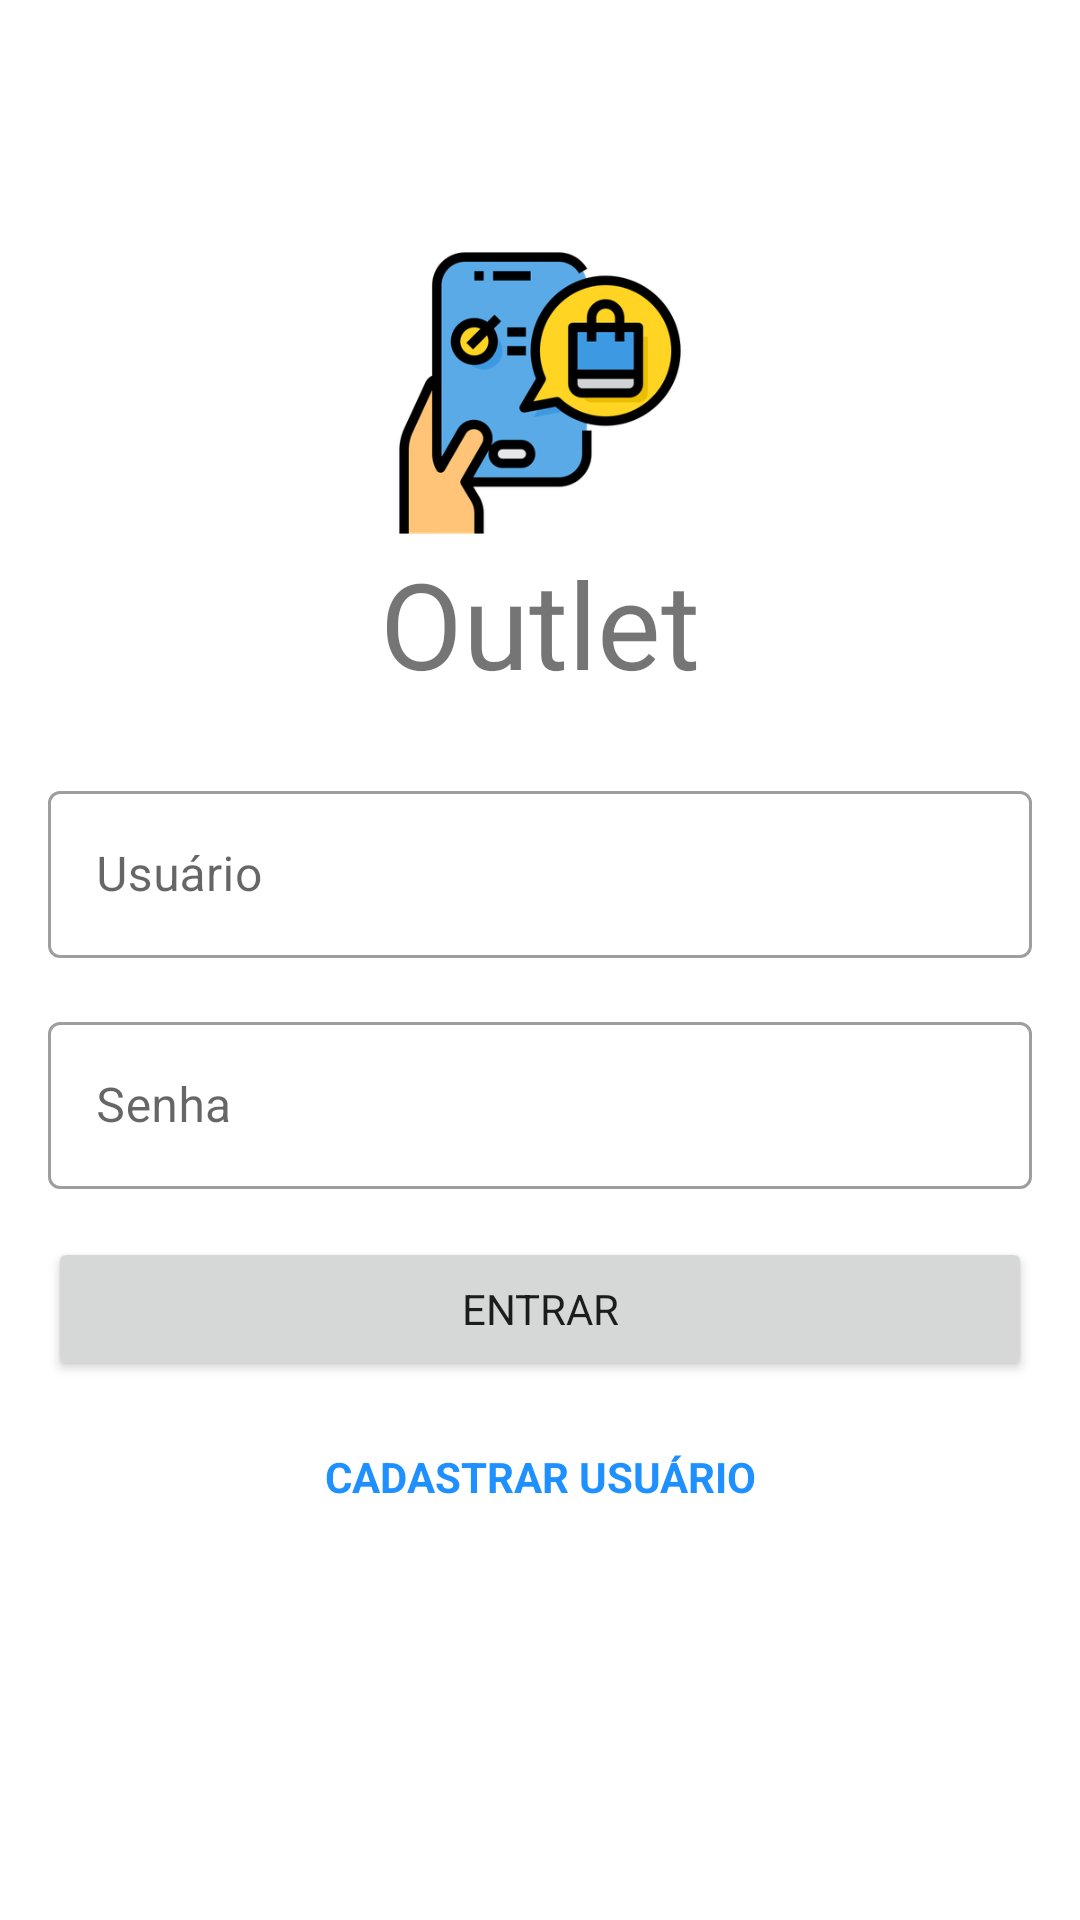

Screen size 1080*1920. Icon name, then its box in pixels as (x1, y1, x2, y2):
smartphone: (399, 252, 681, 534)
